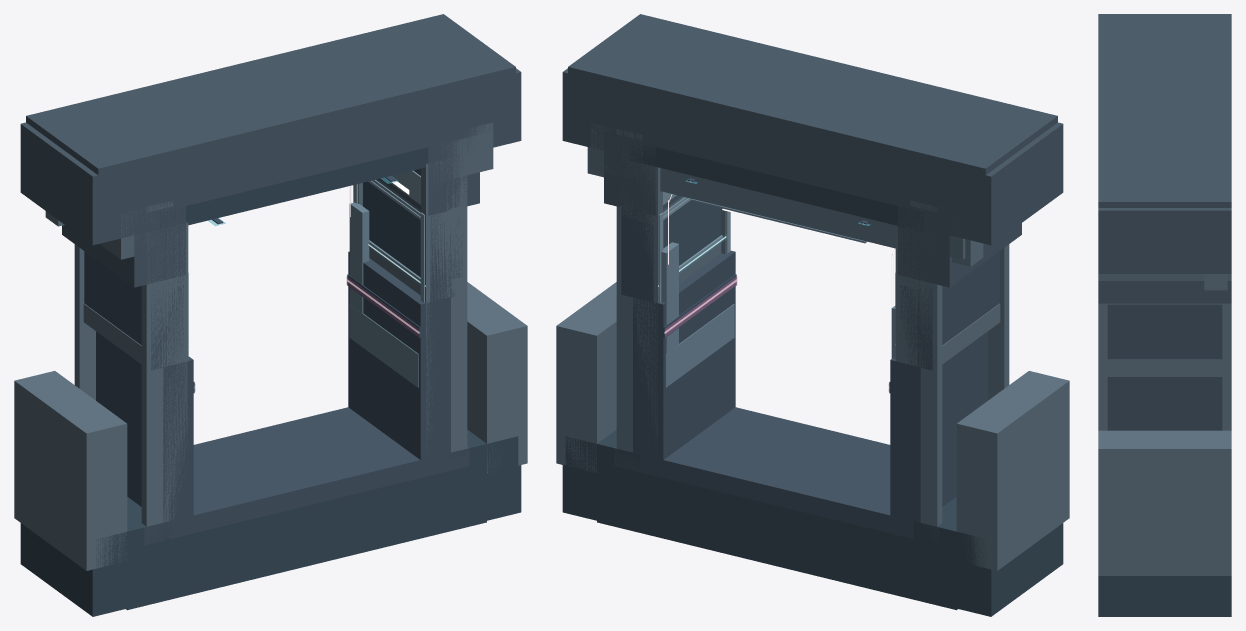
The model's file is continuum-neon-sculpted-v6.gltf.
3 renders of one model, left to right at view 1: azimuth 30°, elevation 25°; view 2: azimuth 150°, elevation 25°; view 3: azimuth 270°, elevation 25°, orthographic. The views are drawn at different scales.
Parts seen in each view (by area): view 1: PANORAMA_START_SHELL, SERVICE_SHELL, PANORAMA_START_INLAY, PANORAMA_END_SHELL, GATE_INLAY, PANORAMA_START_HALO; view 2: PANORAMA_START_SHELL, PANORAMA_END_SHELL, SERVICE_SHELL, GATE_SHELL, PANORAMA_START_INLAY, GATE_INLAY, PANORAMA_START_HALO; view 3: PANORAMA_START_SHELL, SERVICE_SHELL, PANORAMA_END_SHELL, GATE_SHELL.
Part boxes in pixels (box(x1,y1,x2,y2)): PANORAMA_START_SHELL: box(14, 14, 527, 616); SERVICE_SHELL: box(84, 181, 462, 370); PANORAMA_START_INLAY: box(188, 170, 424, 393); PANORAMA_END_SHELL: box(74, 183, 362, 400); GATE_INLAY: box(349, 202, 369, 313); PANORAMA_START_HALO: box(209, 178, 419, 336); PANORAMA_START_SHELL: box(556, 14, 1069, 616); PANORAMA_END_SHELL: box(616, 155, 942, 526); SERVICE_SHELL: box(621, 200, 999, 370); GATE_SHELL: box(587, 147, 983, 266); PANORAMA_START_INLAY: box(663, 178, 890, 393); GATE_INLAY: box(661, 199, 895, 358); PANORAMA_START_HALO: box(665, 181, 868, 336); PANORAMA_START_SHELL: box(1098, 14, 1231, 616); SERVICE_SHELL: box(1107, 304, 1222, 359); PANORAMA_END_SHELL: box(1222, 303, 1231, 430); GATE_SHELL: box(1204, 274, 1227, 290).
Size of the model in its own units: 56.4 by 54.8 by 16.
